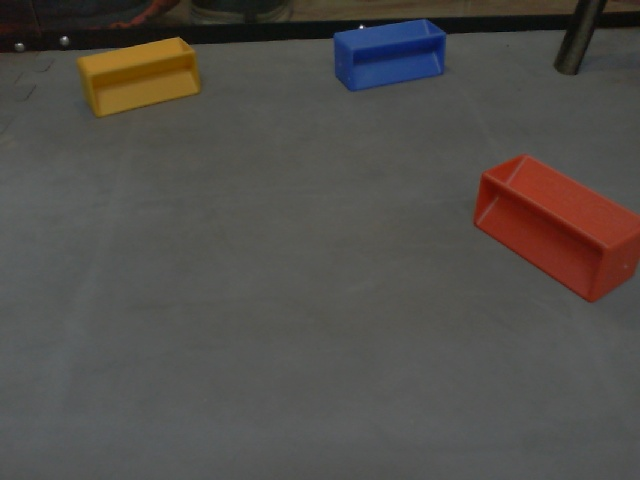BlueSample: (333, 18, 448, 91)
RedSample: (471, 152, 640, 305)
YellowSample: (75, 33, 200, 120)
